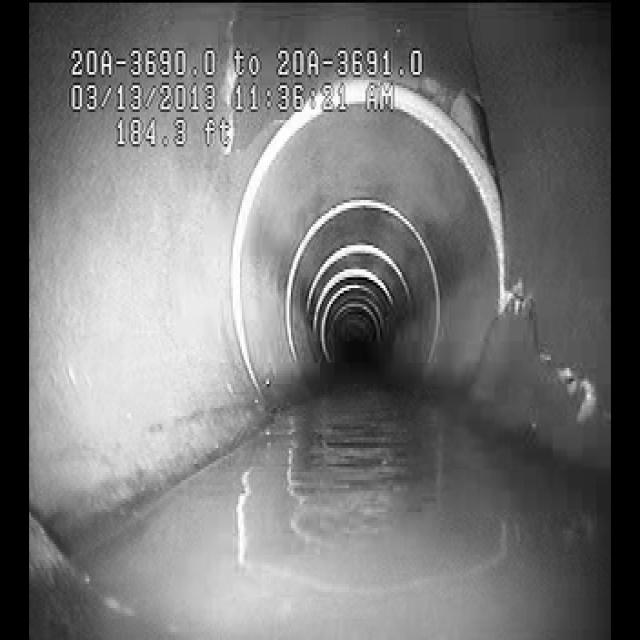Fracture: (493, 259, 593, 414)
